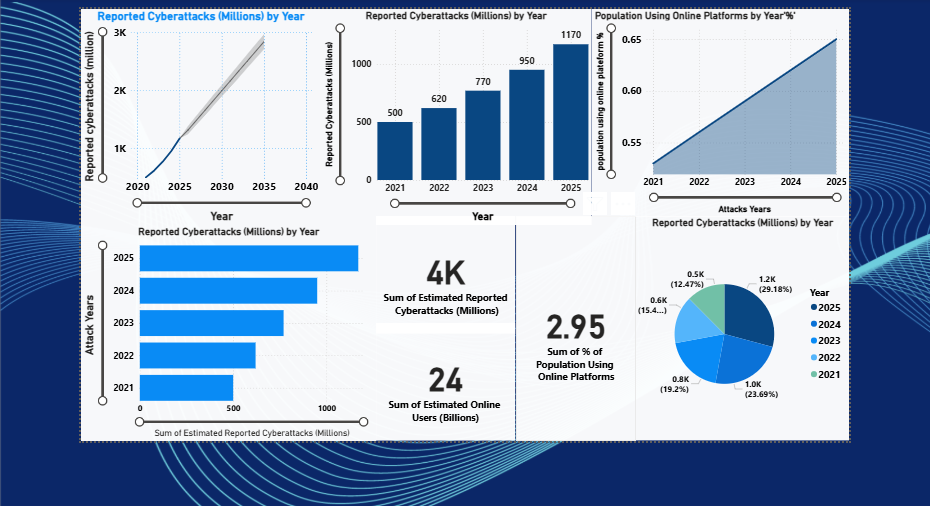

This screenshot's page, from the dashboard's own definition file:
{"tool":"powerbi","page":{"name":"Page 1","canvas":[1280,720],"ordinal":0},"visuals":[{"type":"lineChart","title":" Reported Cyberattacks (Millions) by Year","fields":{"Category":["Sheet1.Year"],"Y":["Sum(Sheet1.Estimated Reported Cyberattacks (Millions))"]},"box":[0,0,400.3,360],"z":0},{"type":"card","fields":{"Values":["Sum(Sheet1.Estimated Online Users (Billions))"]},"box":[492.5,524.2,231.8,195.8],"z":1000},{"type":"card","fields":{"Values":["Sum(Sheet1.Estimated Reported Cyberattacks (Millions))"]},"box":[492.5,345.6,231.8,195.8],"z":2000},{"type":"card","fields":{"Values":["Sum(Sheet1.% of Population Using Online Platforms)"]},"box":[724.3,345.6,200.2,374.4],"z":3000},{"type":"clusteredColumnChart","title":" Reported Cyberattacks (Millions) by Year","fields":{"Category":["Sheet1.Year"],"Y":["Sum(Sheet1.Estimated Reported Cyberattacks (Millions))"]},"box":[400.3,0,450.7,360],"z":4000},{"type":"clusteredBarChart","title":" Reported Cyberattacks (Millions) by Year","fields":{"Category":["Sheet1.Year"],"Y":["Sum(Sheet1.Estimated Reported Cyberattacks (Millions))"]},"box":[0,360,492.5,360],"z":5000},{"type":"areaChart","title":" Population Using Online Platforms by Year''%''","fields":{"Category":["Sheet1.Year"],"Y":["Sum(Sheet1.% of Population Using Online Platforms)"]},"box":[851,0,429.1,345.6],"z":6000},{"type":"pieChart","title":" Reported Cyberattacks (Millions) by Year","fields":{"Category":["Sheet1.Year"],"Y":["Sum(Sheet1.Estimated Reported Cyberattacks (Millions))"]},"box":[924.5,345.6,355.7,374.4],"z":7000}]}

Visuals, with their boxes on the page's 1280x720 design canvas (x1, y1, x2, y2). These are canvas units, not pixel positions in the 930x506 screenshot, which may show the page scaled, cropped or inside an application window:
" Reported Cyberattacks (Millions) by Year" lineChart: {"left": 0, "top": 0, "right": 400, "bottom": 360}
card - Sum(Sheet1.Estimated Online Users (Billions)): {"left": 492, "top": 524, "right": 724, "bottom": 720}
card - Sum(Sheet1.Estimated Reported Cyberattacks (Millions)): {"left": 492, "top": 346, "right": 724, "bottom": 541}
card - Sum(Sheet1.% of Population Using Online Platforms): {"left": 724, "top": 346, "right": 924, "bottom": 720}
" Reported Cyberattacks (Millions) by Year" clusteredColumnChart: {"left": 400, "top": 0, "right": 851, "bottom": 360}
" Reported Cyberattacks (Millions) by Year" clusteredBarChart: {"left": 0, "top": 360, "right": 492, "bottom": 720}
" Population Using Online Platforms by Year''%''" areaChart: {"left": 851, "top": 0, "right": 1280, "bottom": 346}
" Reported Cyberattacks (Millions) by Year" pieChart: {"left": 924, "top": 346, "right": 1280, "bottom": 720}
